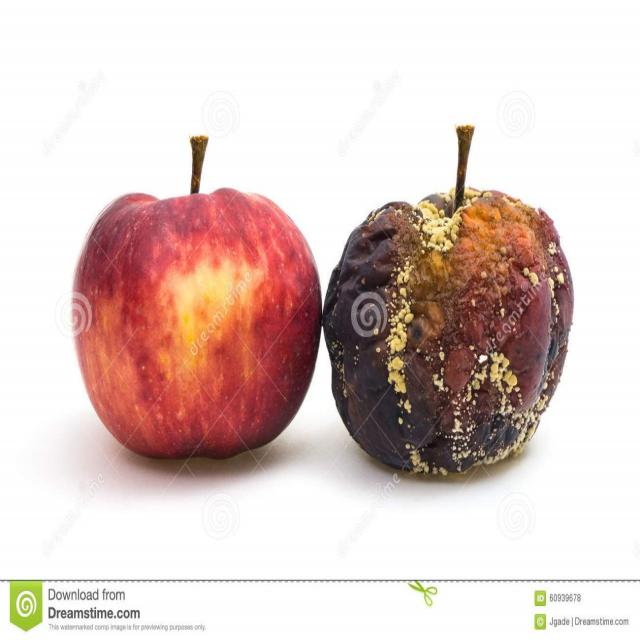fresh_apple: (74, 188, 323, 457)
rotten_apple: (323, 192, 571, 480)
